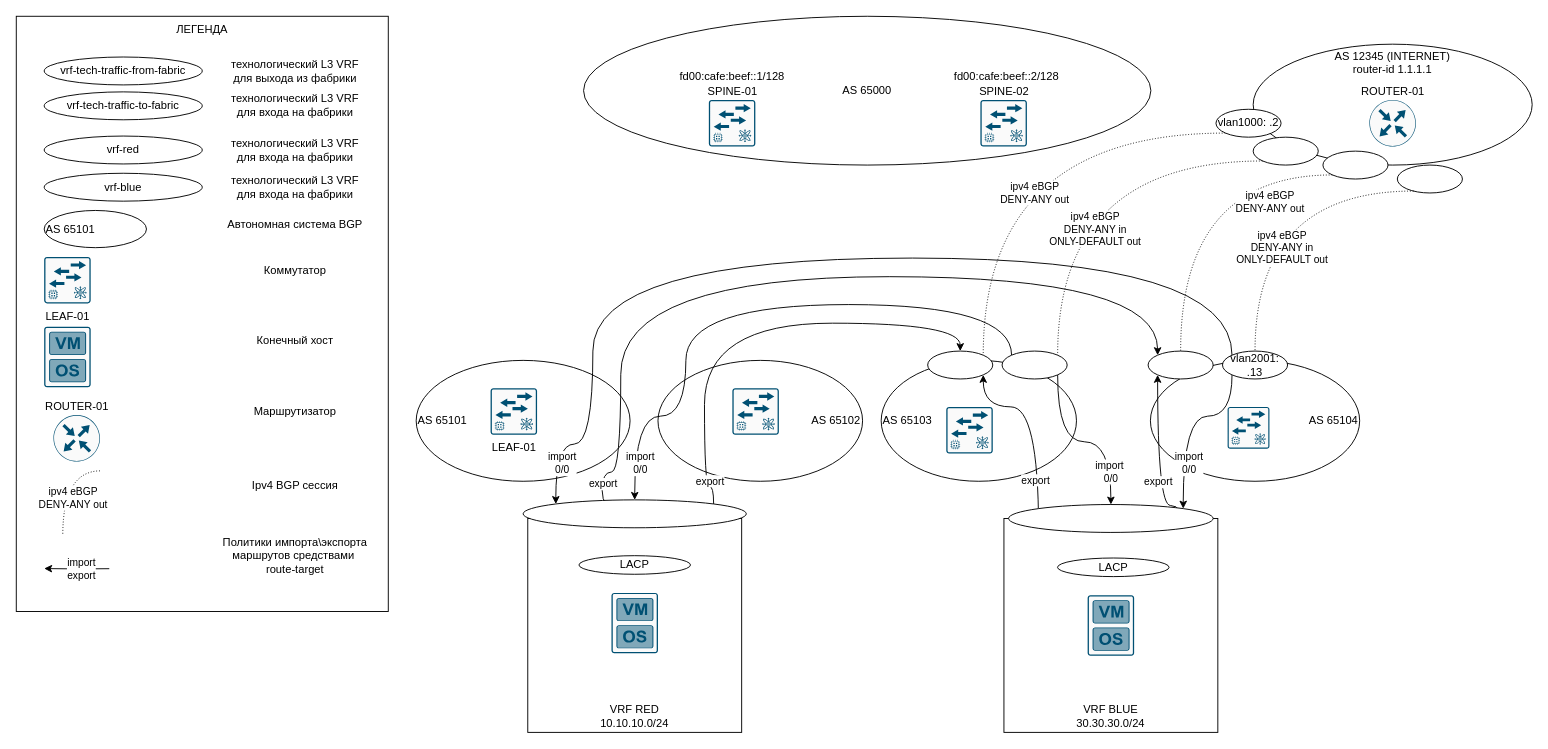
This 1548x749 diagram has some shape labels left out. Here are the shapes that lost their labels. From the top down, the centre of each, then its label:
At point (1285, 150): "vlan2000: .6".
At point (1355, 164): "vlan1001: .10".
At point (1429, 178): "vlan2001: .14".
At point (960, 364): "vlan1000: .1".
At point (1034, 364): "vlan2000: .5".
At point (1180, 364): "vlan1001: .9".
At point (755, 411): "LEAF-02".
At point (969, 429): "LEAF-03".
At point (1248, 427): "LEAF-04".
